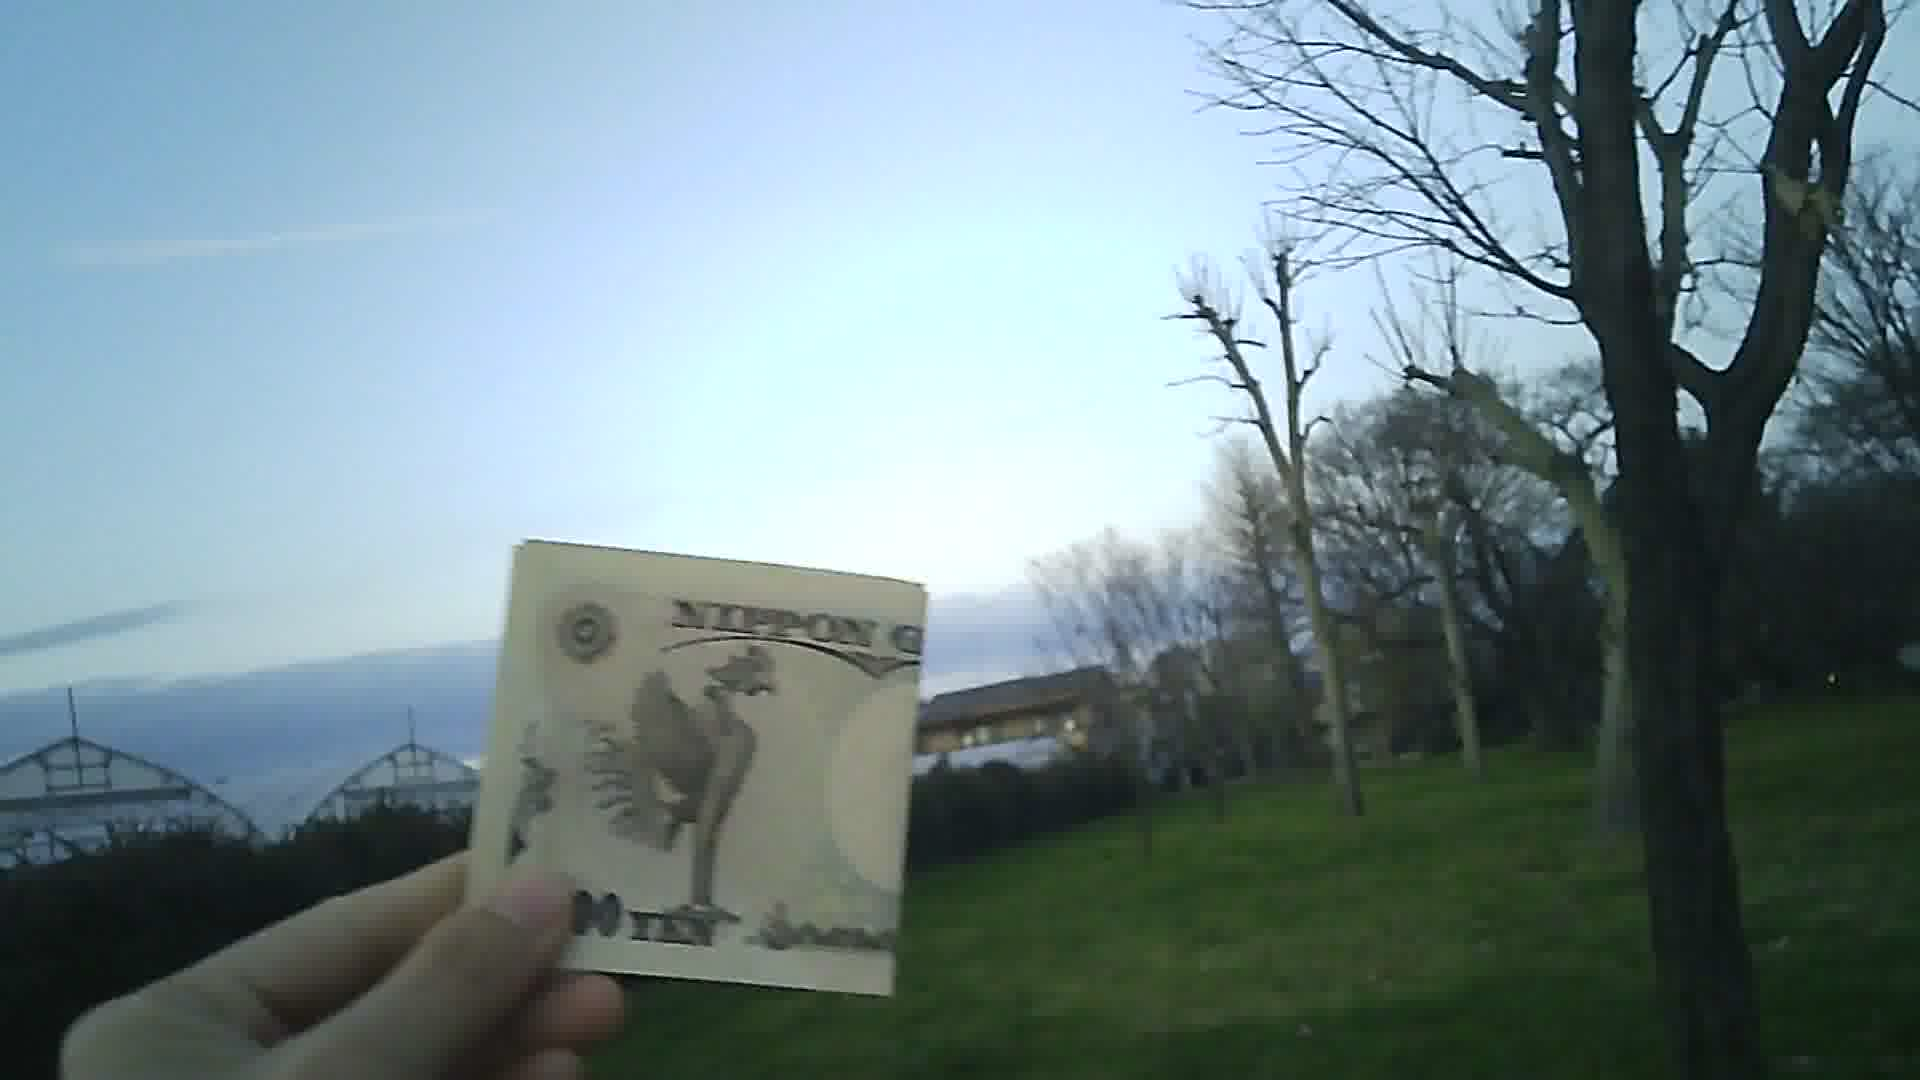10,000 Yen: (458, 513, 952, 1011)
